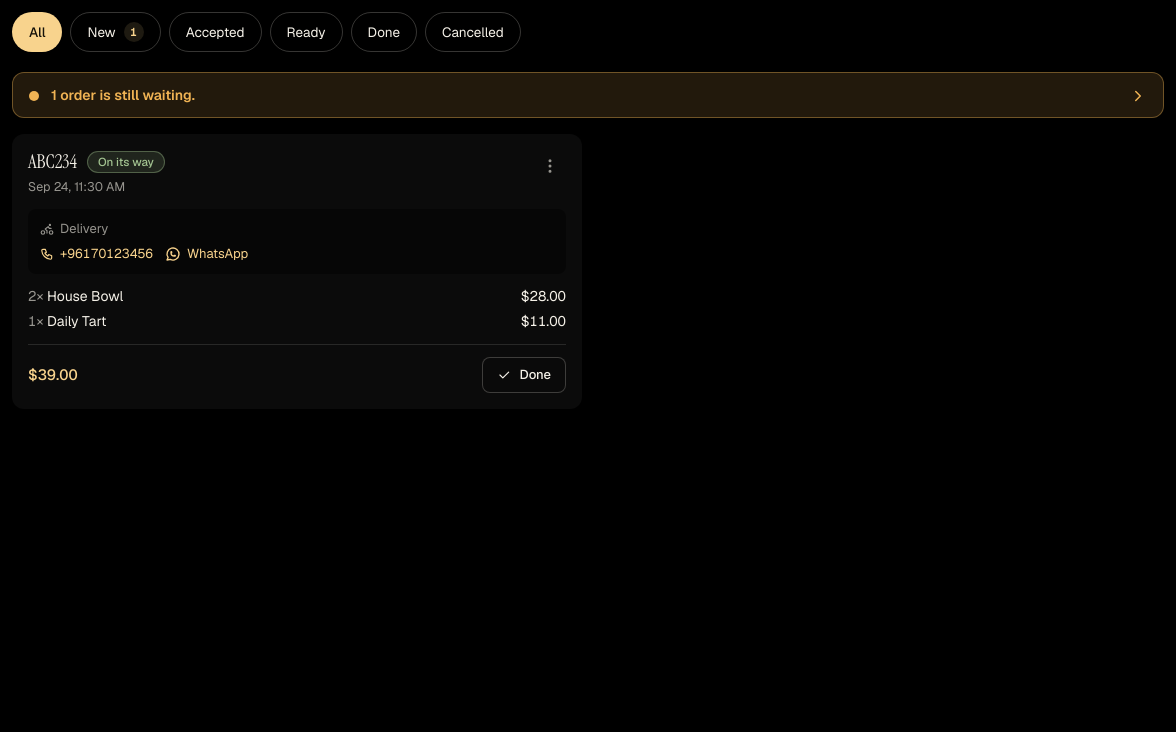
Scenario: OrdersPage › finishes an order on its way, which reads so on the card
Expected: the text "On its way" is shown, [87, 151, 165, 173]
Click the button "Done".
click(524, 375)  # box [482, 357, 566, 393]
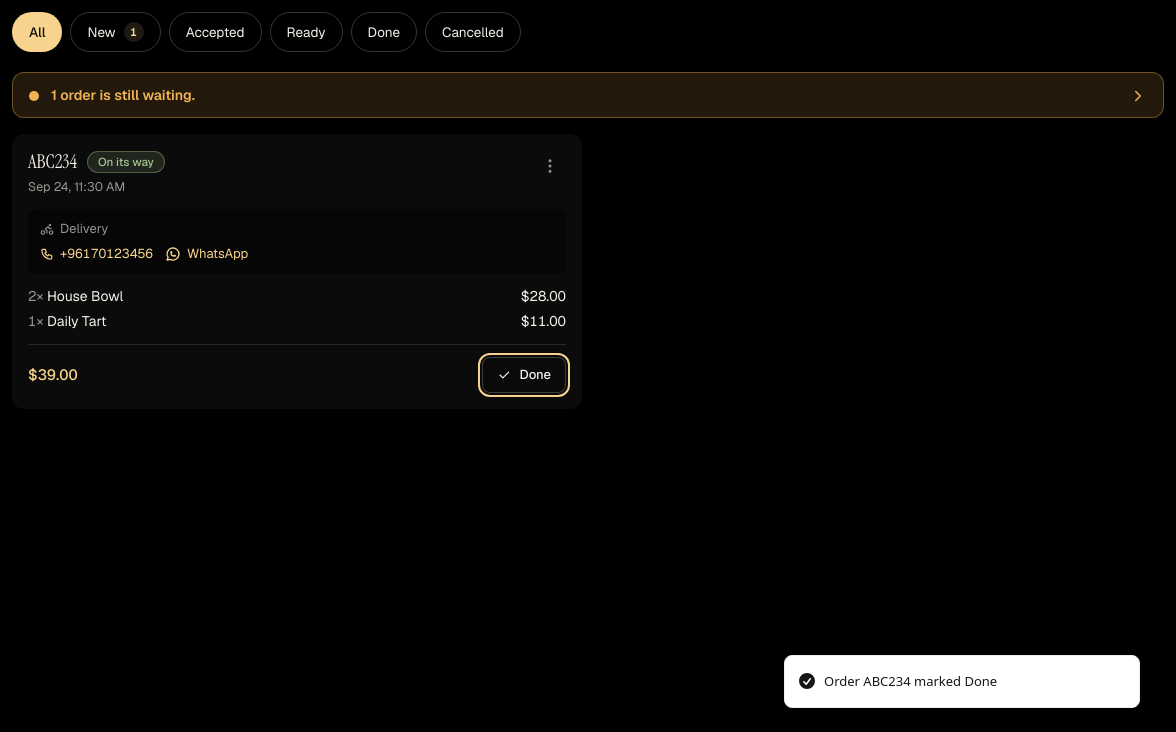
Click the button named "More for order ABC234".
click(550, 166)  # box [534, 150, 566, 182]
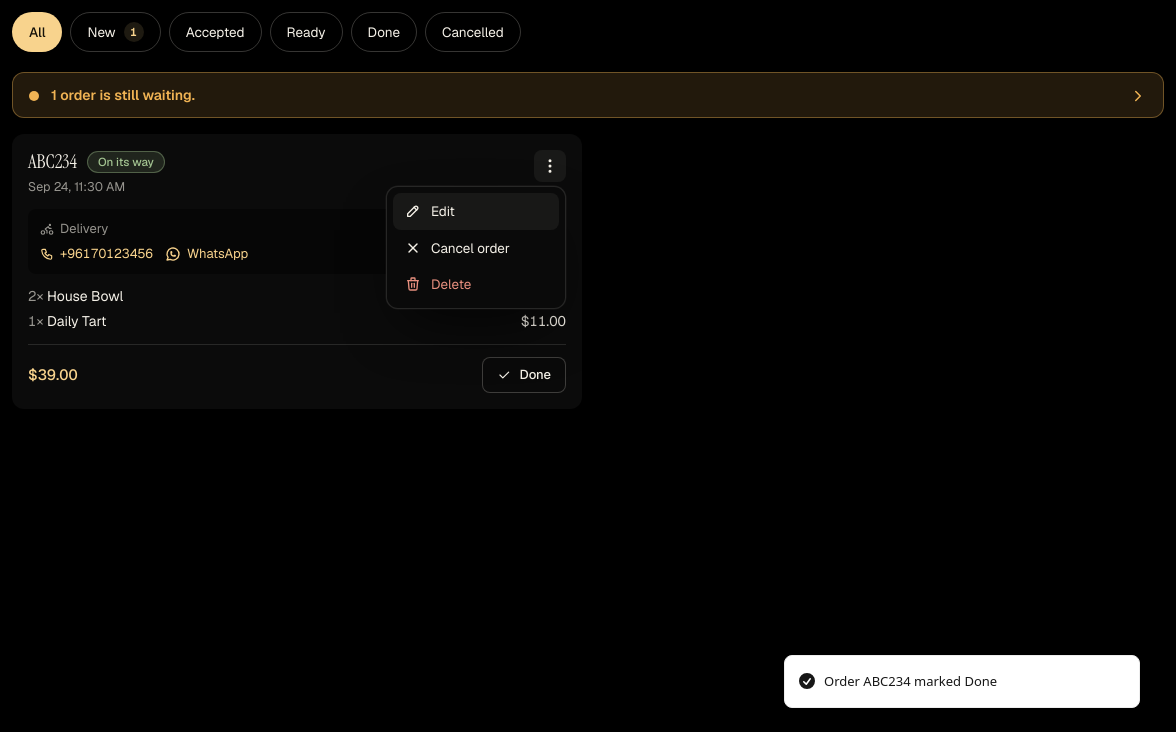
Now the menu item "Cancel order" is shown, box [393, 230, 559, 266]
